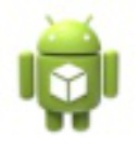ImgView: (1, 1, 139, 150)
